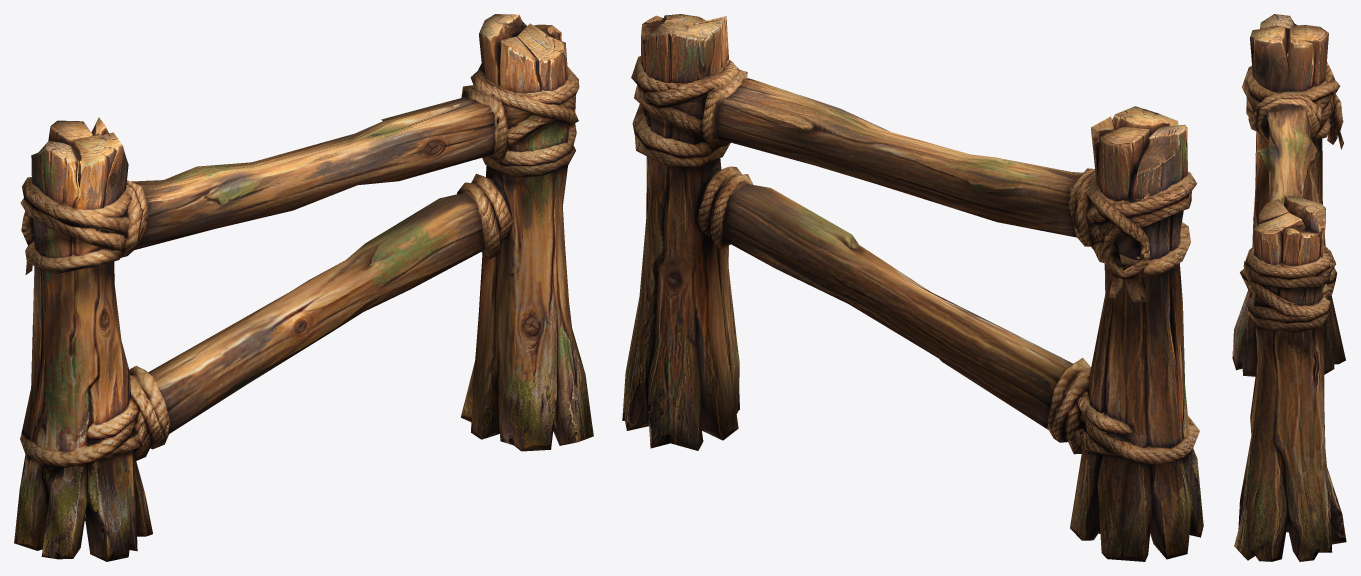
The model's file is fence-rope-v2-lod.glb.
3 renders of one model, left to right at view 1: azimuth 30°, elevation 25°; view 2: azimuth 150°, elevation 25°; view 3: azimuth 270°, elevation 25°, orthographic. The views are drawn at different scales.
Visible parts, largest first — view 1: tripo_node_aa03e0cd-da52-4859-8077-0e12633ee987; view 2: tripo_node_aa03e0cd-da52-4859-8077-0e12633ee987; view 3: tripo_node_aa03e0cd-da52-4859-8077-0e12633ee987.
Part boxes in pixels (x1=…): tripo_node_aa03e0cd-da52-4859-8077-0e12633ee987: x1=14, y1=14, x2=593, y2=561; tripo_node_aa03e0cd-da52-4859-8077-0e12633ee987: x1=622, y1=14, x2=1203, y2=561; tripo_node_aa03e0cd-da52-4859-8077-0e12633ee987: x1=1232, y1=14, x2=1346, y2=561.
Bounding box in the file's own units: 0.9785 × 0.6812 × 0.2095.
1 material, 1 textured.
